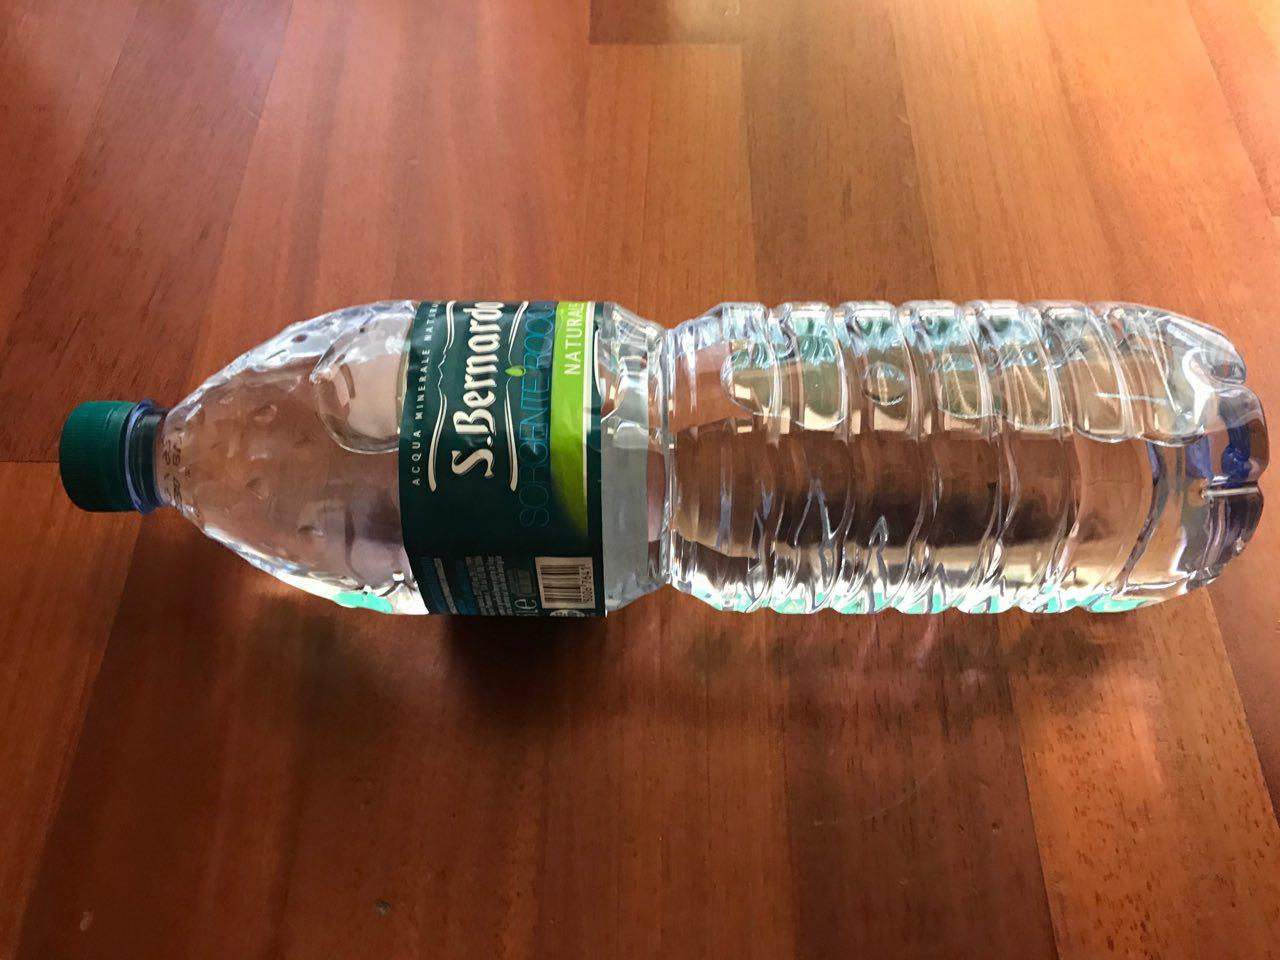san_bernardo: (57, 296, 1273, 620)
